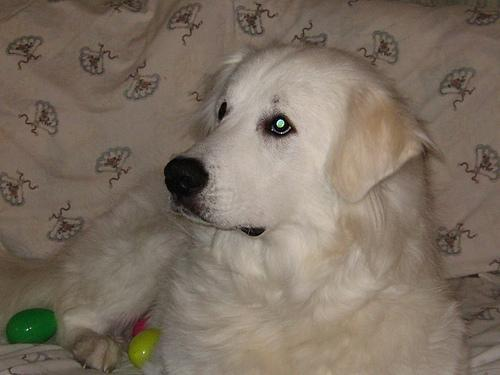Great_Pyrenees: (0, 41, 474, 374)
